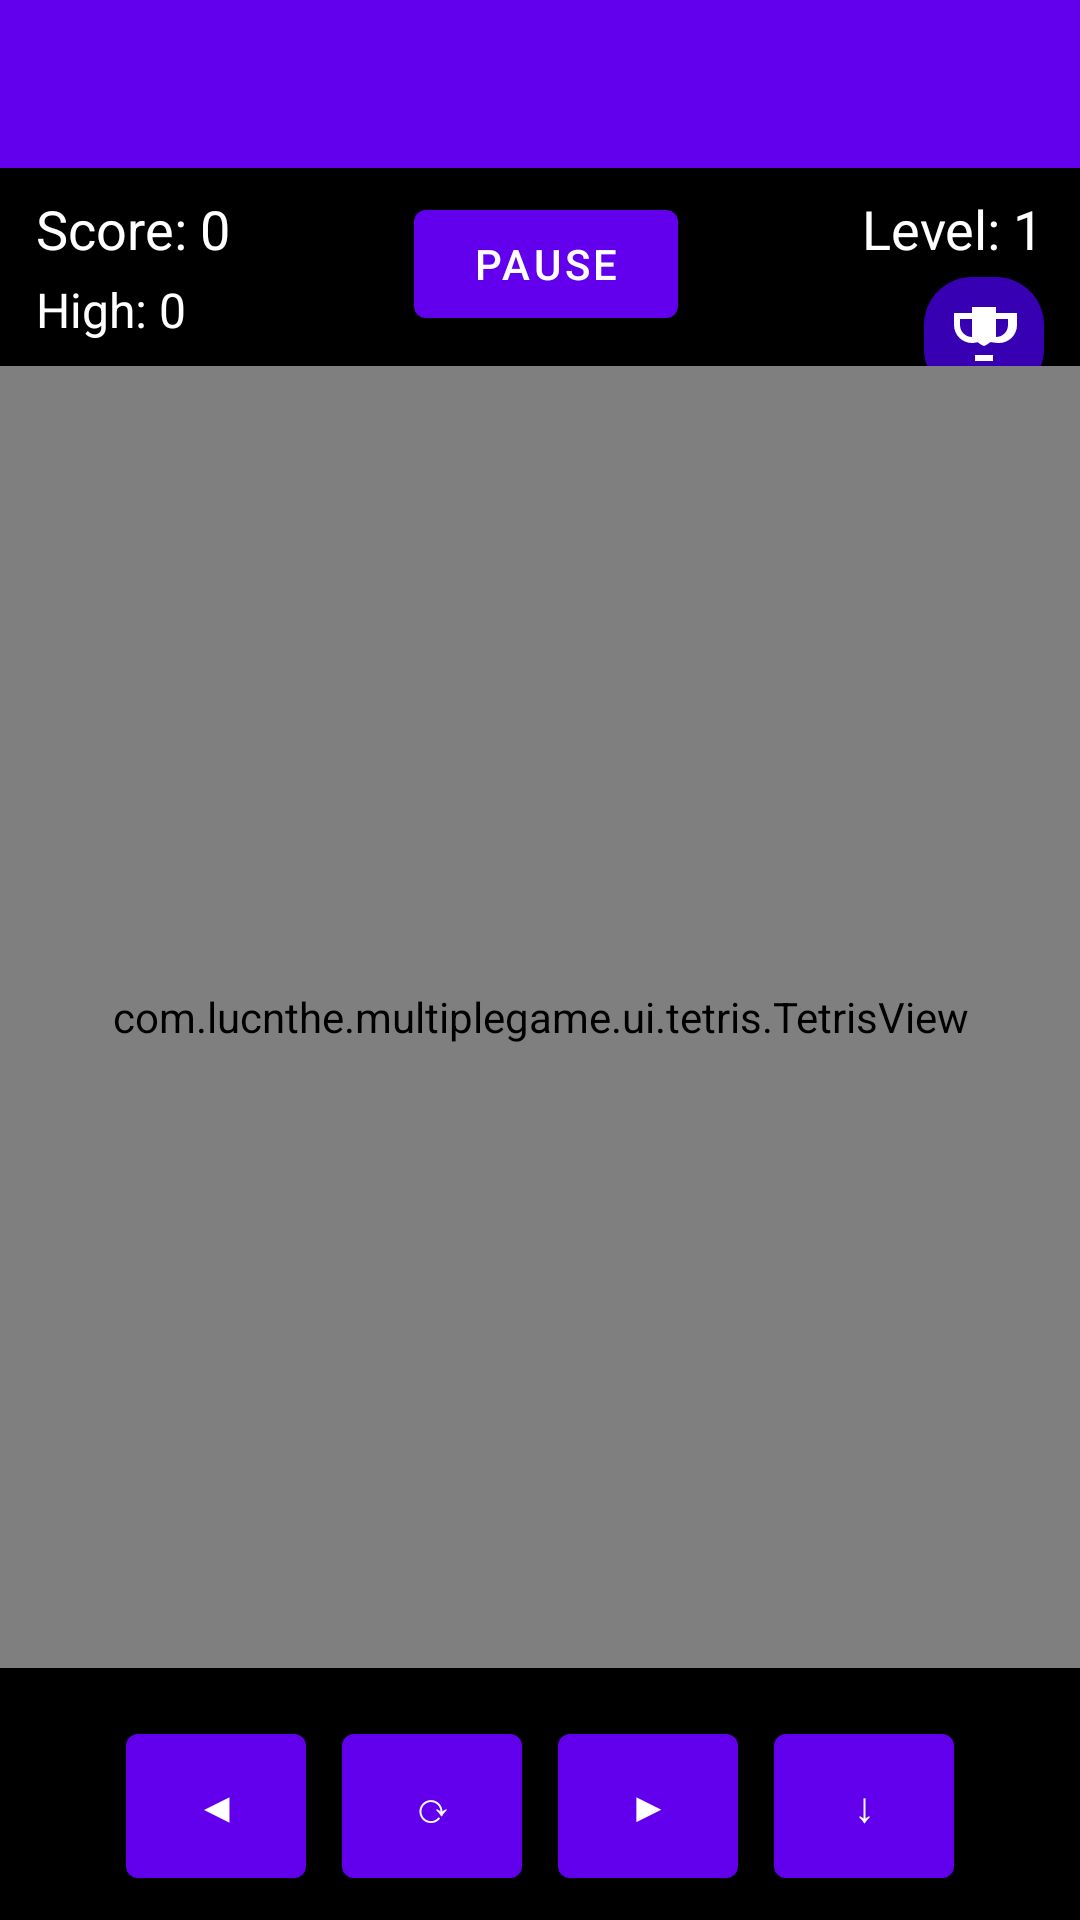

Locate icon controls on the screen. Image size 1080 x 1920, boxes as {"left": x1, "top": y1, "right": x2, "bottom": y2}.
Leaderboard: {"left": 924, "top": 277, "right": 1044, "bottom": 397}
